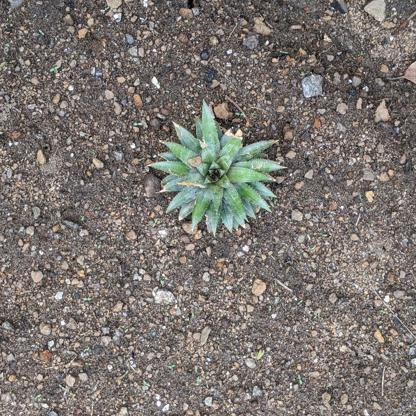pineapple: (148, 99, 285, 237)
